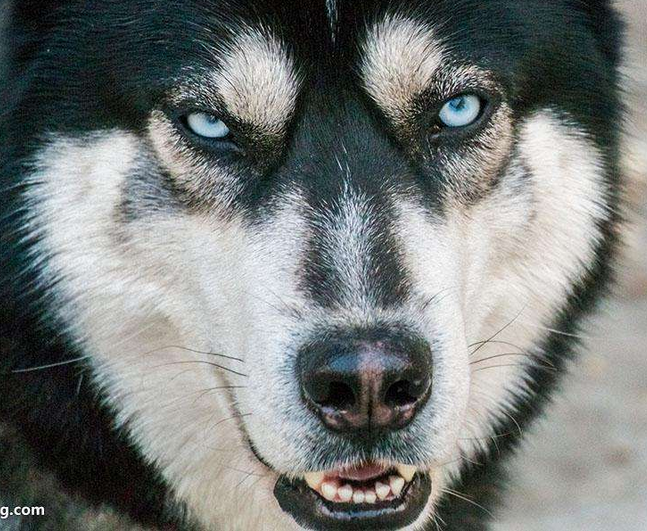nose: (291, 315, 449, 443)
